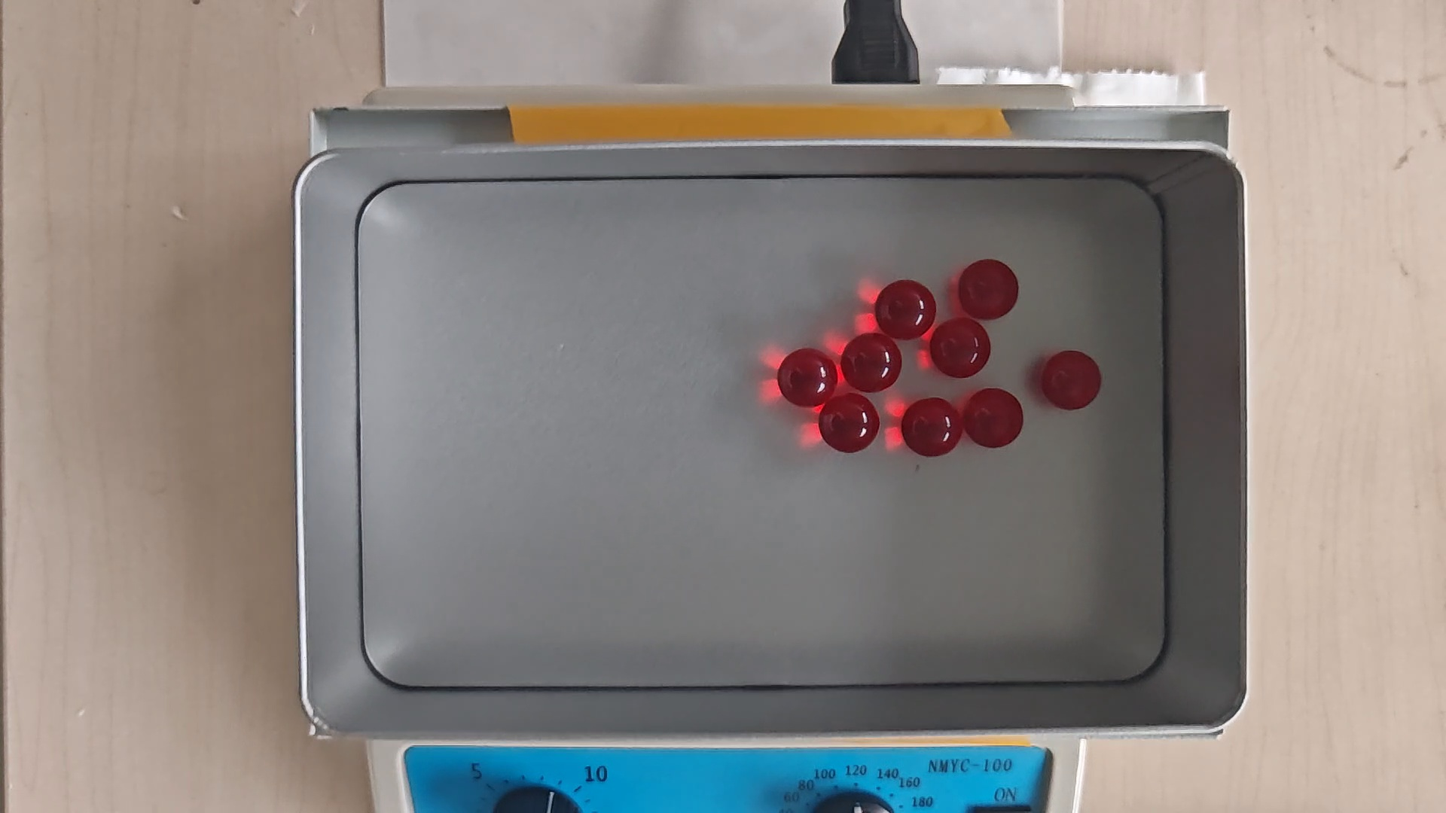ball: (1041, 349, 1102, 412), (819, 393, 881, 454), (930, 318, 991, 379), (901, 397, 962, 458), (876, 278, 936, 340), (965, 387, 1024, 449), (959, 259, 1019, 319), (842, 332, 901, 393), (778, 348, 837, 408)
container: (354, 174, 1168, 683)
